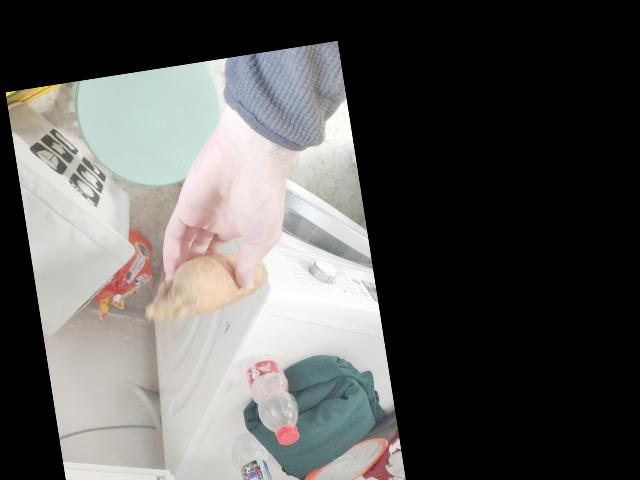sweet_potato: (163, 252, 264, 320)
